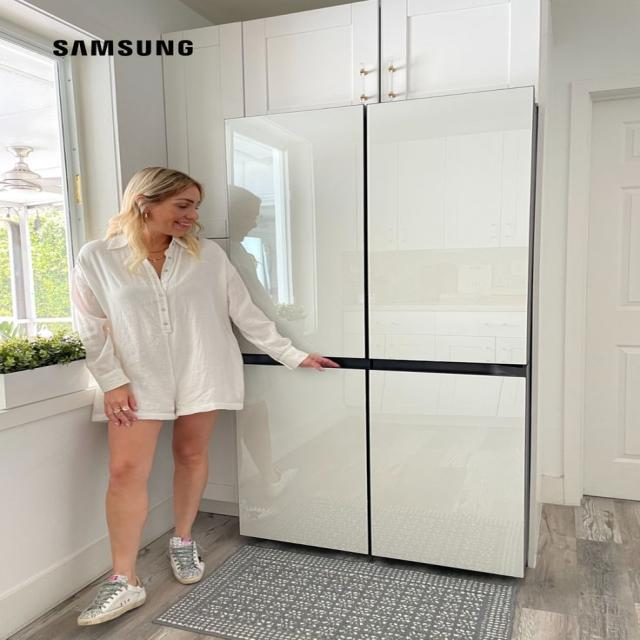door: (566, 76, 638, 503)
obstacle: (221, 84, 538, 578)
person: (69, 165, 341, 626)
